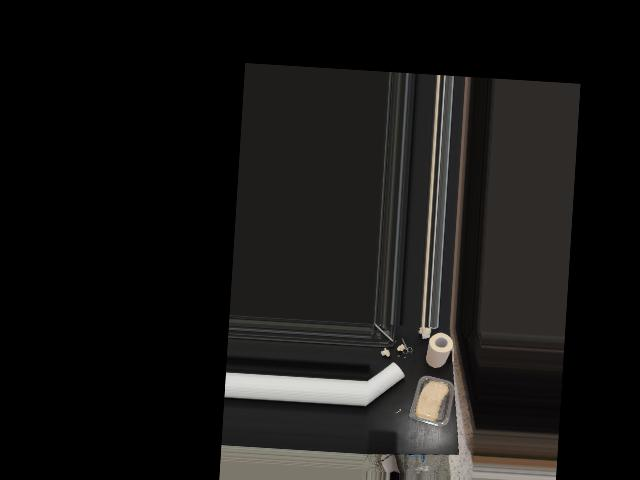cheese: (410, 374, 451, 427)
